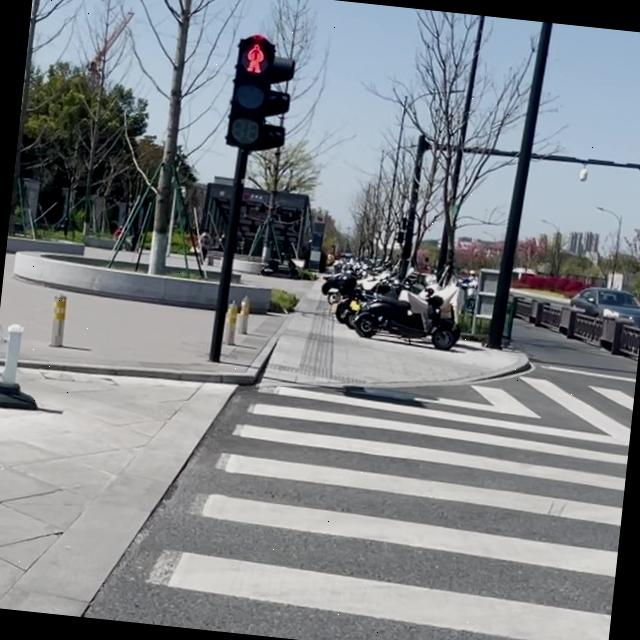curb: (19, 337, 276, 385), (364, 345, 531, 389)
